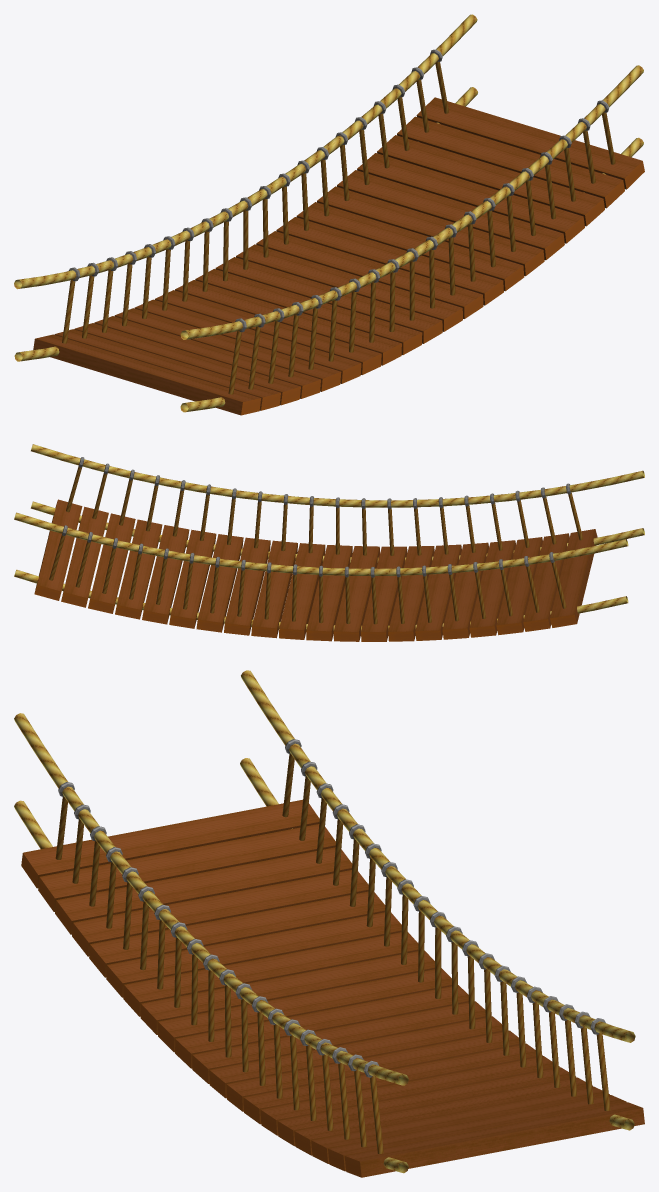
Rendered from bridge.FBX.
The picture shows the model from 3 angles, top to bottom: view 1: azimuth 30°, elevation 25°; view 2: azimuth 150°, elevation 25°; view 3: azimuth 270°, elevation 25°; orthographic projection. The views are drawn at different scales.
Visible parts, largest first — view 1: polySurface2; view 2: polySurface2; view 3: polySurface2.
Part boxes in pixels (box(x1,y1,x2,y2)): polySurface2: box(14, 14, 644, 415); polySurface2: box(14, 444, 644, 641); polySurface2: box(14, 670, 644, 1177).
Size of the model in its own units: 28.94 by 5.38 by 18.93.
